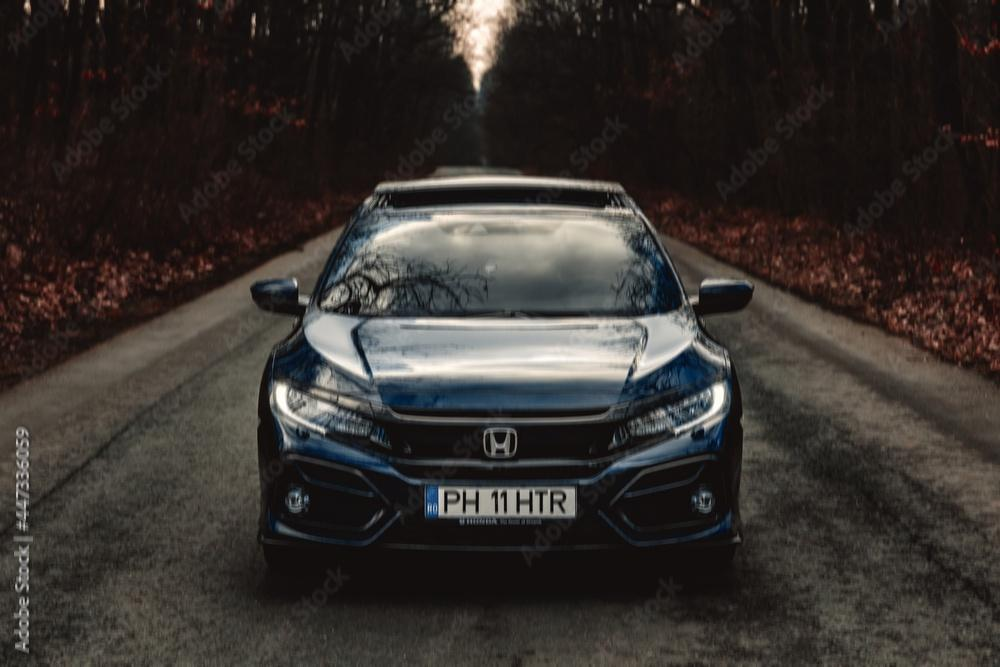Car hood: (269, 310, 734, 420)
Front bumper: (252, 413, 748, 565)
Headlight - -L-: (603, 376, 731, 463)
Headlight - -R-: (268, 376, 397, 461)
Side mirror - -L-: (683, 276, 756, 320)
Side mirror - -R-: (248, 273, 310, 319)
